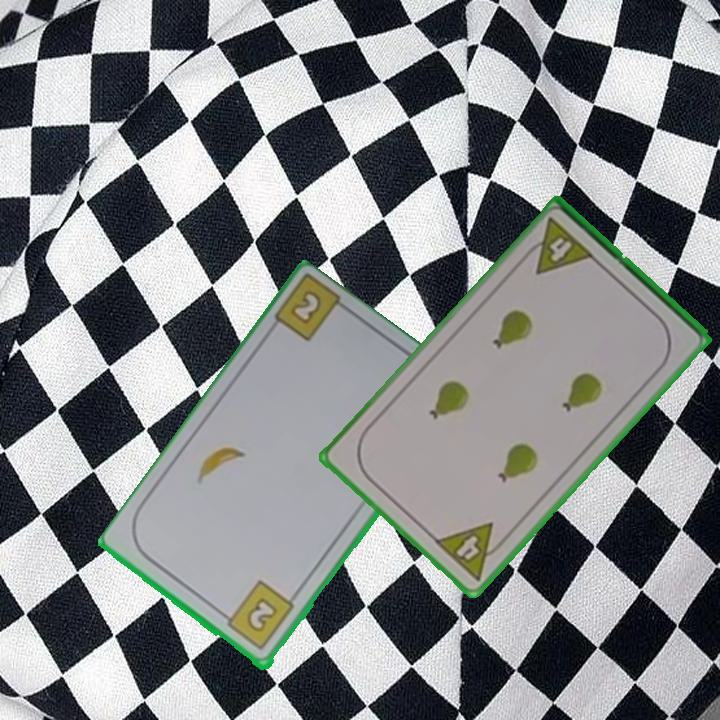2b: (217, 578, 297, 654), (286, 287, 325, 328)
4p: (430, 519, 511, 585), (519, 214, 597, 278)
